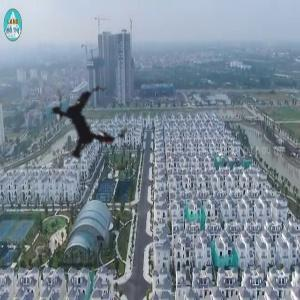drone: (9, 48, 157, 196)
